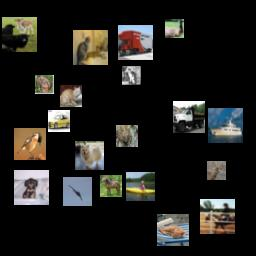airplane: (63, 177, 92, 206)
automobile: (48, 110, 70, 132)
bird: (14, 128, 46, 160), (165, 19, 184, 38)
cat: (73, 30, 108, 65), (157, 214, 189, 246), (60, 85, 82, 107), (122, 66, 141, 85)
deer: (2, 17, 37, 52), (207, 161, 226, 180), (35, 75, 54, 94)
dog: (14, 170, 49, 205), (75, 141, 104, 170)
frog: (116, 125, 138, 147)
ship: (208, 108, 243, 143), (126, 172, 155, 201)
truck: (118, 25, 153, 60), (173, 101, 205, 133)
